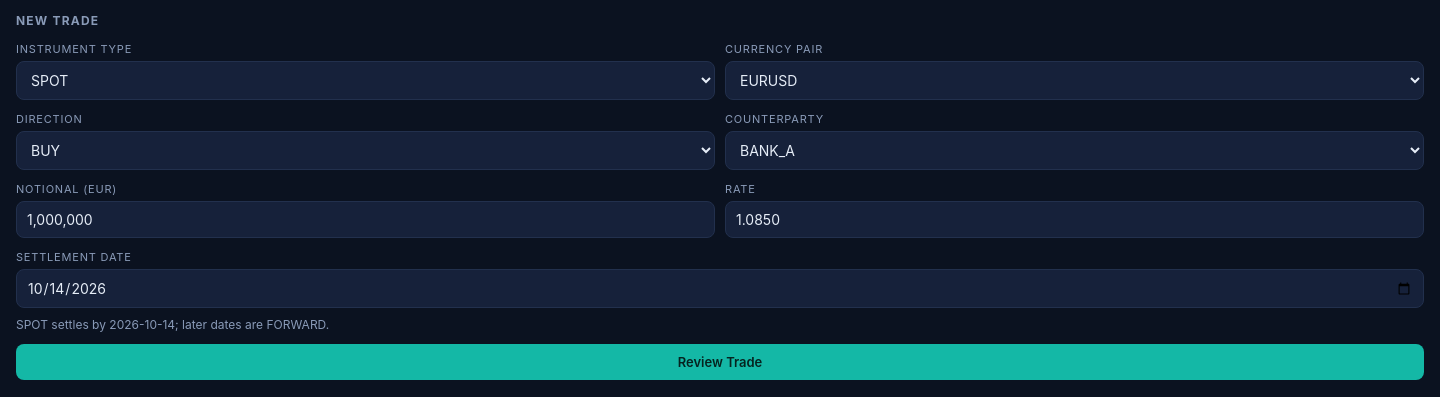
NewTradeForm › re-defaults the rate to the market rate on type switch after a manual edit
The width and height of the screenshot is (1440, 397).
Replace the text in the field labelled "Rate" with "1.9999" at (1074, 220), box [725, 201, 1424, 238]
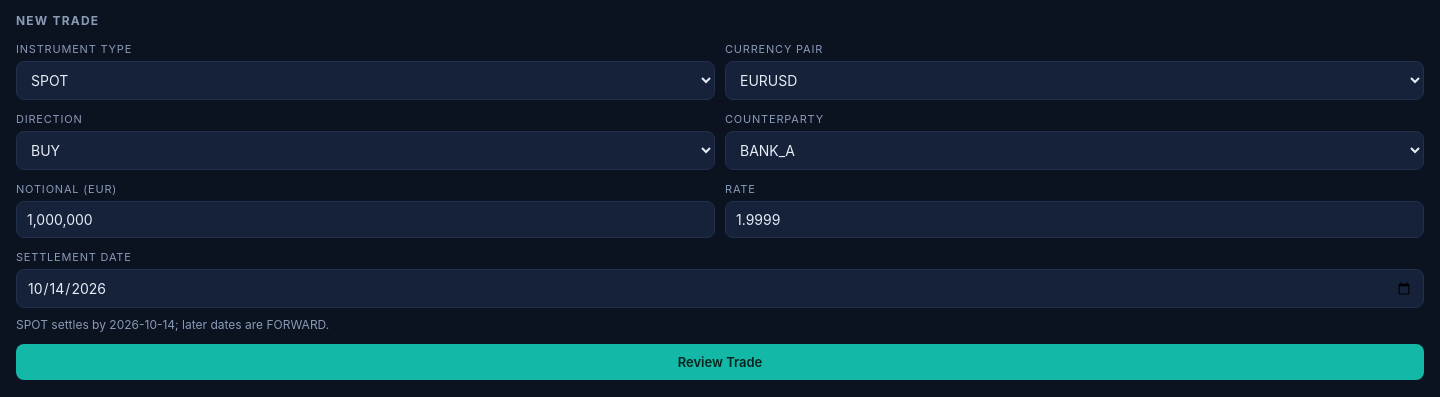
Select "FORWARD" in the dropdown labelled "Instrument Type" at (366, 80), box [16, 61, 715, 100]
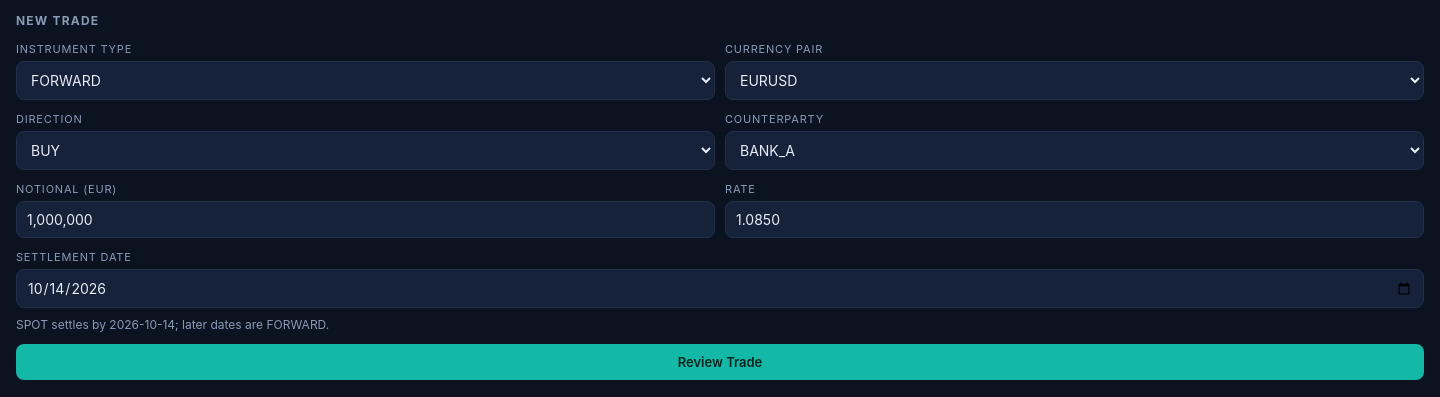
expect the field labelled "Rate" holds "1.0850": met, box [725, 201, 1424, 238]
